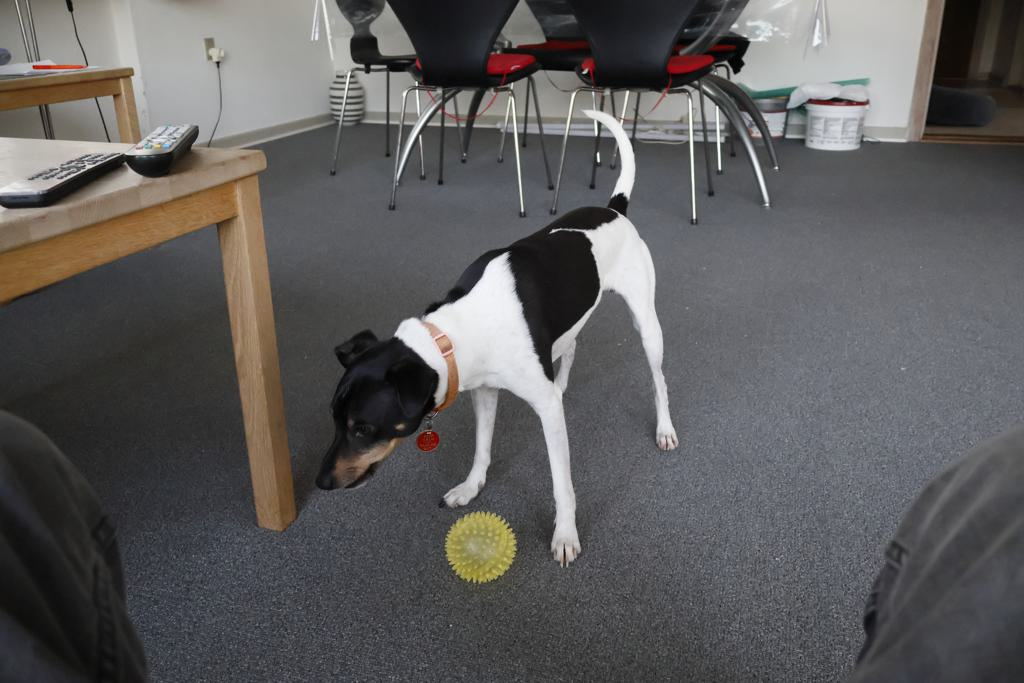Dog: (294, 105, 684, 574)
Humanoid: (0, 389, 1024, 683)
